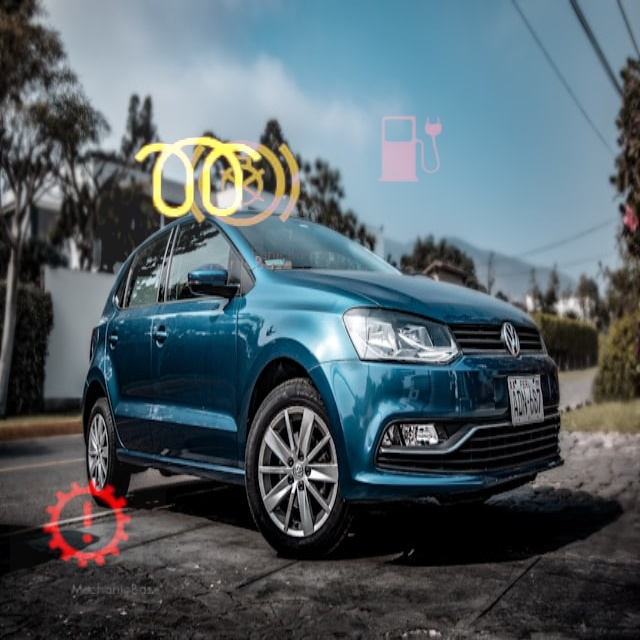symbol: (96, 76, 300, 280), (158, 101, 325, 268), (10, 446, 166, 602), (343, 83, 477, 217)
